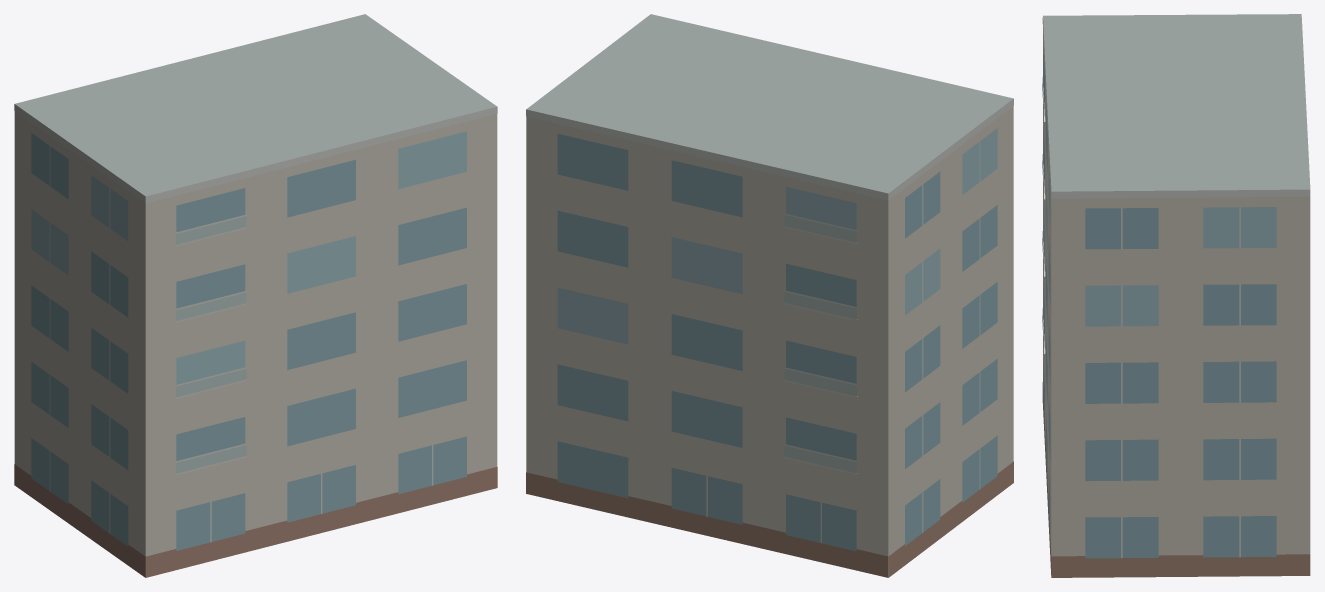
File: survey-upis-32893307.glb
The picture shows the model from 3 angles, left to right: view 1: azimuth 30°, elevation 25°; view 2: azimuth 150°, elevation 25°; view 3: azimuth 270°, elevation 25°; orthographic projection.
Parts seen in each view (by area): view 1: survey-upis-32893307.tmp; view 2: survey-upis-32893307.tmp; view 3: survey-upis-32893307.tmp.
Boxes of the visible parts, x1,y1,x2,y2 form: survey-upis-32893307.tmp: (14,14,497,577); survey-upis-32893307.tmp: (526,14,1013,577); survey-upis-32893307.tmp: (1042,14,1310,577).
Bounding box in the file's own units: 13.03 × 13.2 × 8.31.
